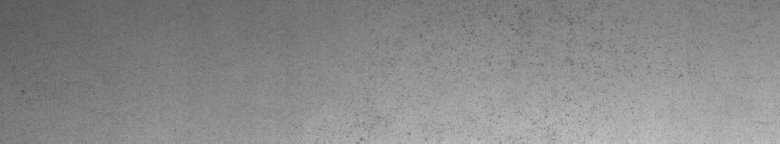ib: (420, 4, 607, 136)
